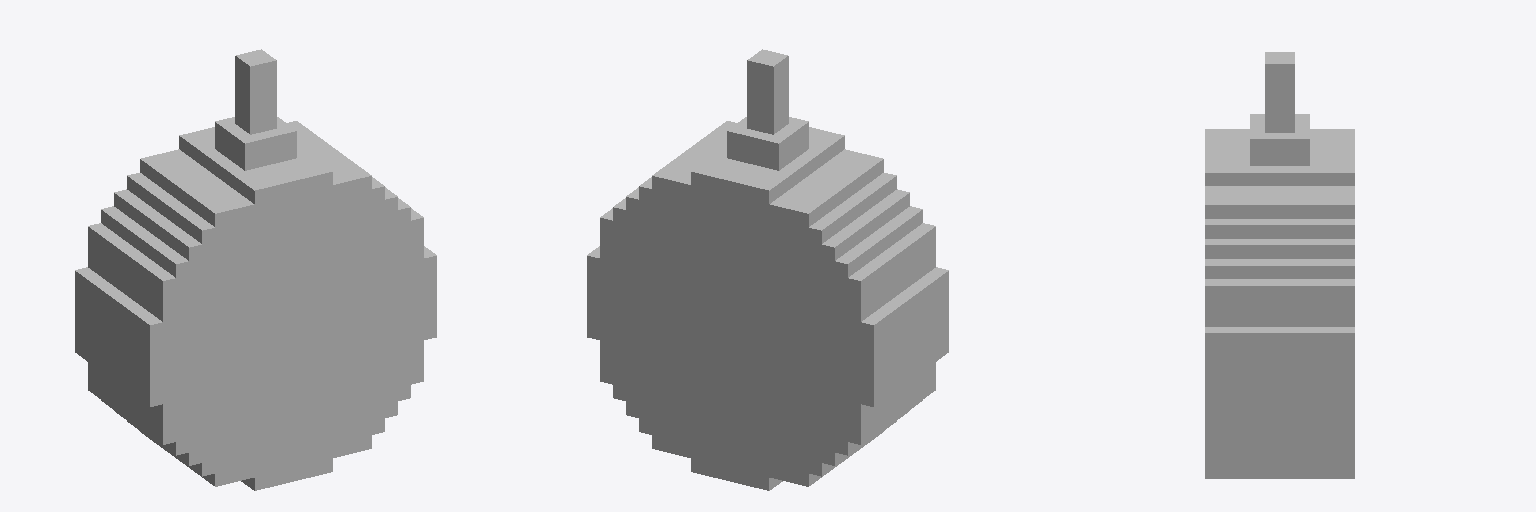
The model's file is Going Down 2.obj.
3 views of the same model, side by side, from view 1: azimuth 30°, elevation 25°; view 2: azimuth 150°, elevation 25°; view 3: azimuth 270°, elevation 25° (orthographic).
Size of the model in its own units: 22 by 29 by 10.